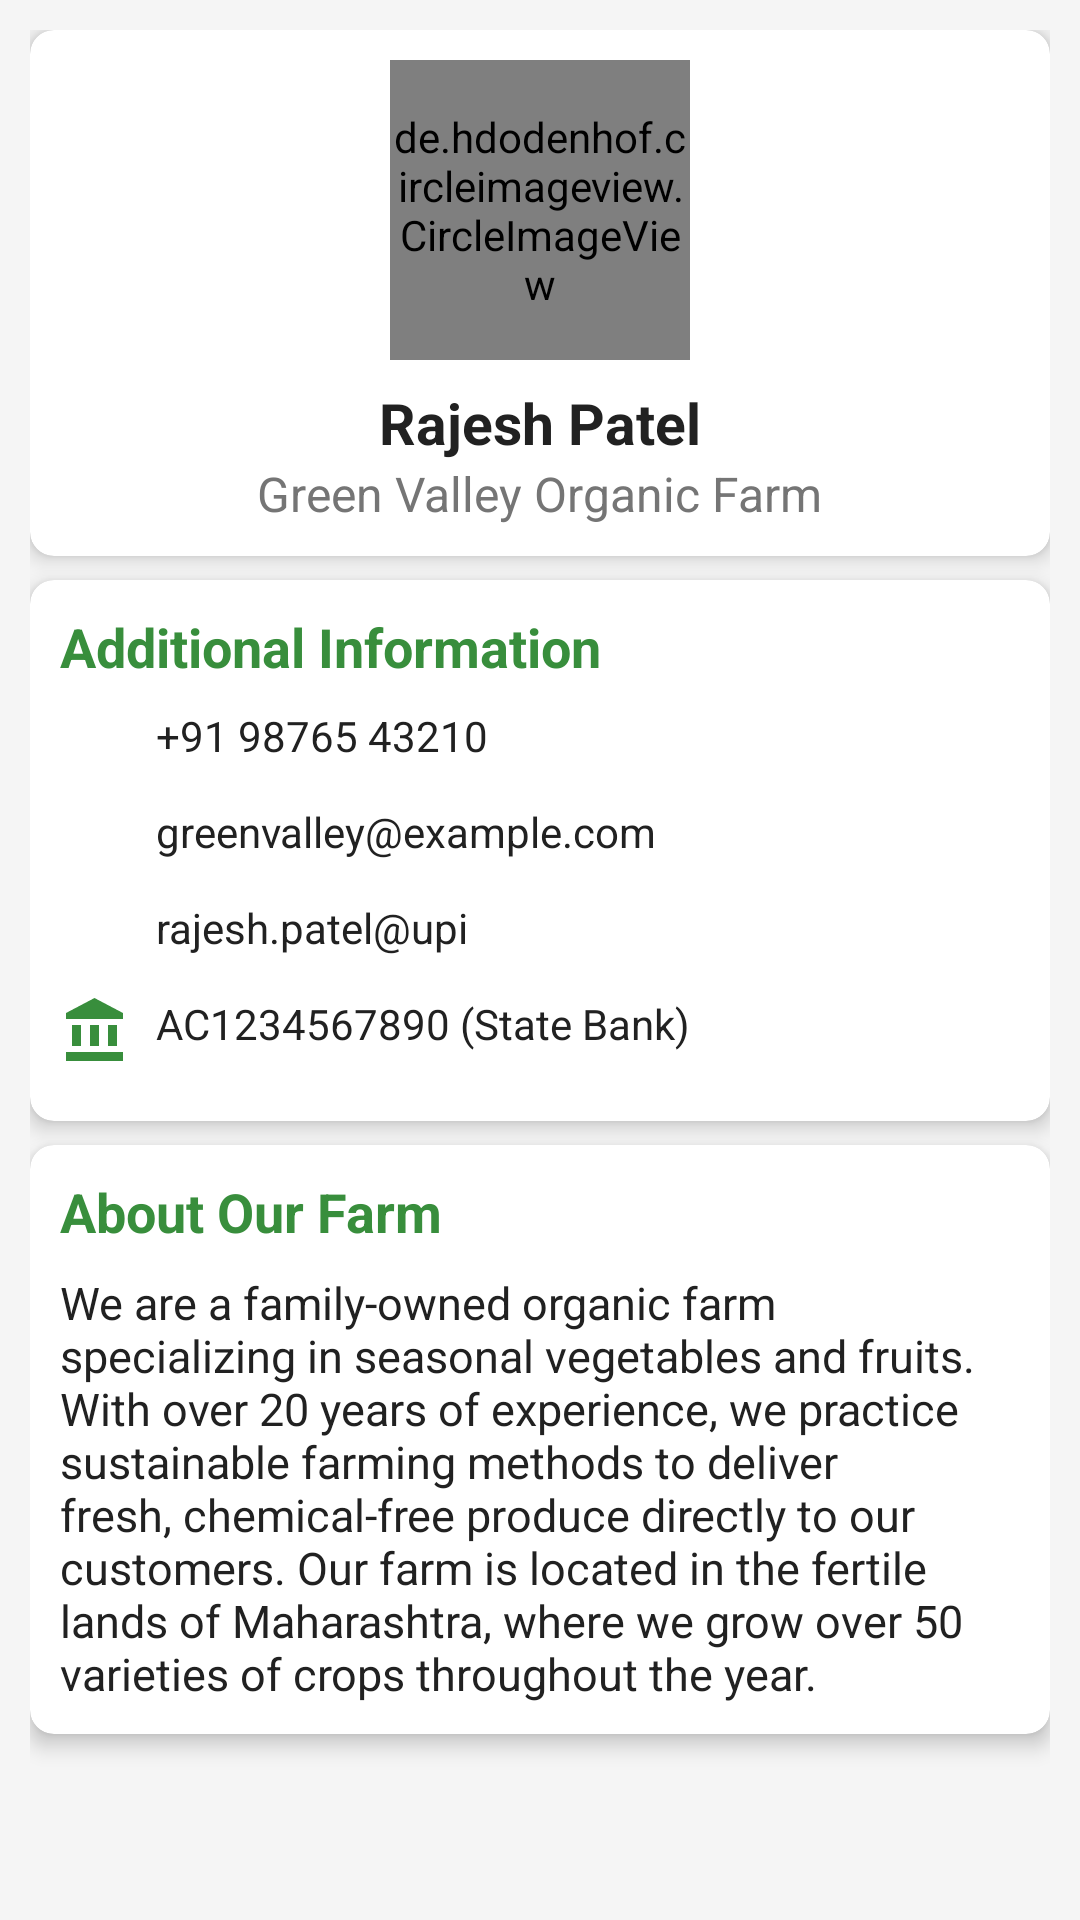

Named icons in this screenshot (1080 × 1920) and their bounding boxes, (x1, y1, x2, y2):
account balance: (66, 998, 123, 1061)
